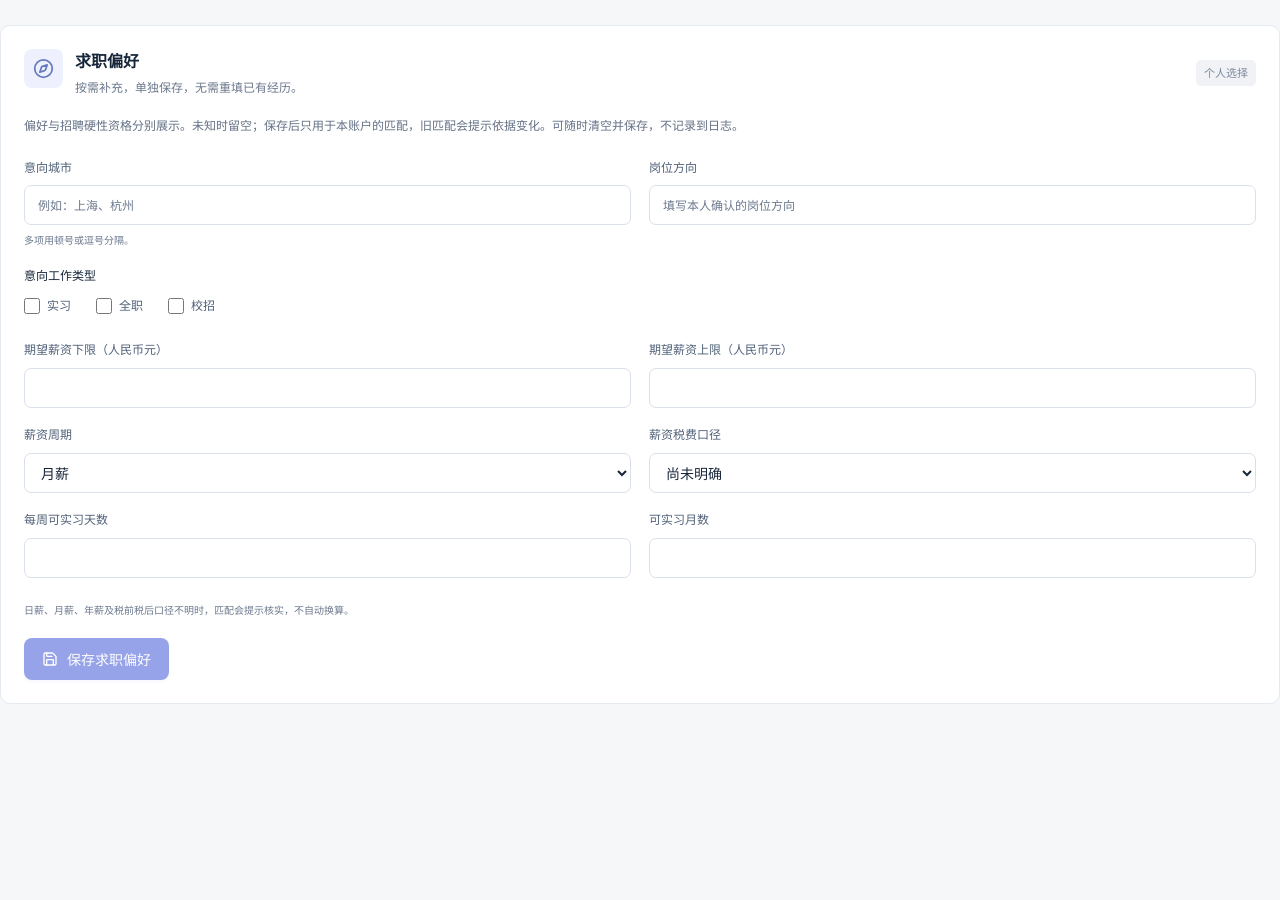
Test: keeps unknown preferences empty and rejects reverse salary ranges without a write
Expected: the button "保存求职偏好" is disabled, left=24, top=638, right=169, bottom=680
Type "300" into the number field labelled "期望薪资下限（人民币元）". click: coordinates (328, 388)
box: left=24, top=368, right=631, bottom=408
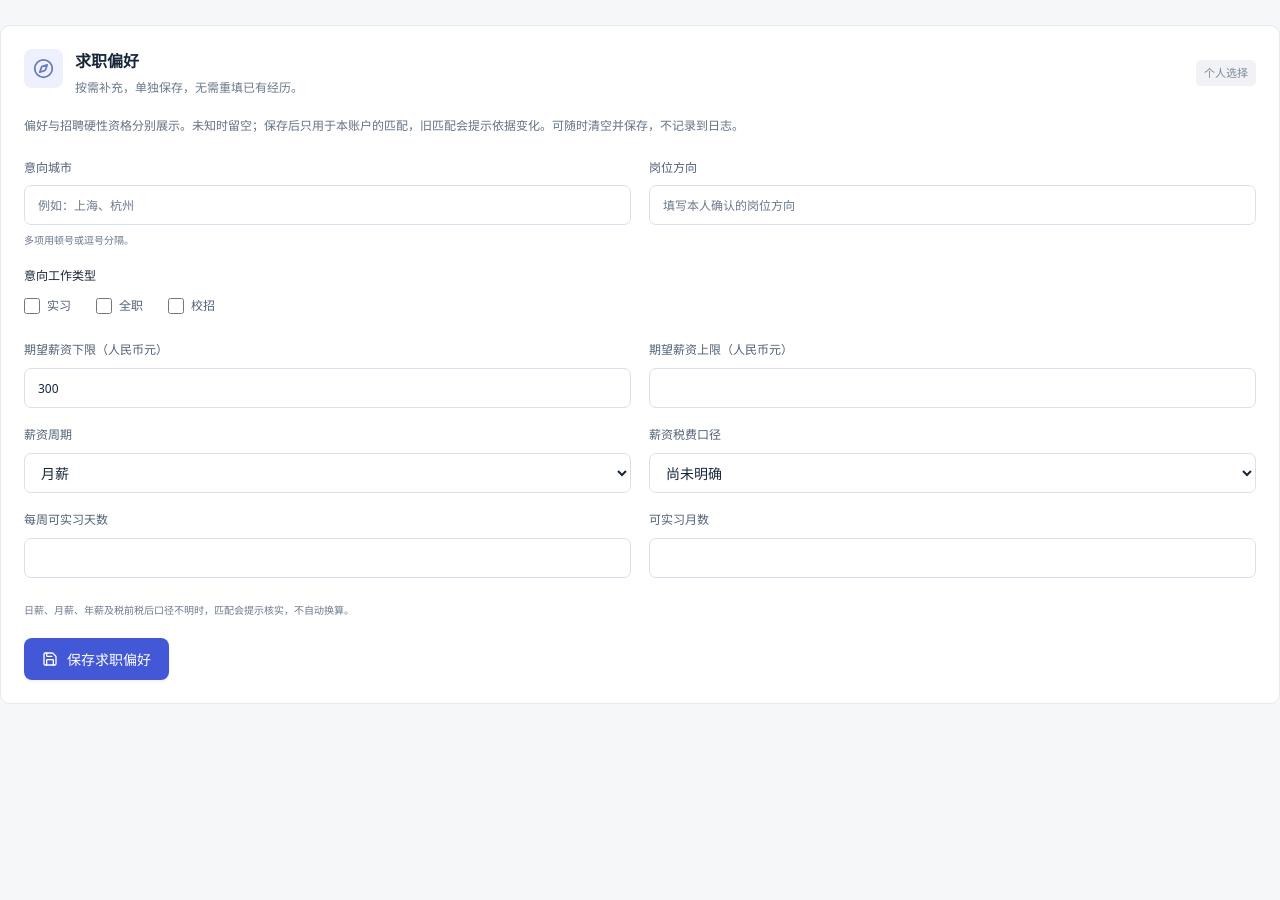
Type "200" into the number field labelled "期望薪资上限（人民币元）". click: coordinates (952, 388)
box: left=649, top=368, right=1256, bottom=408
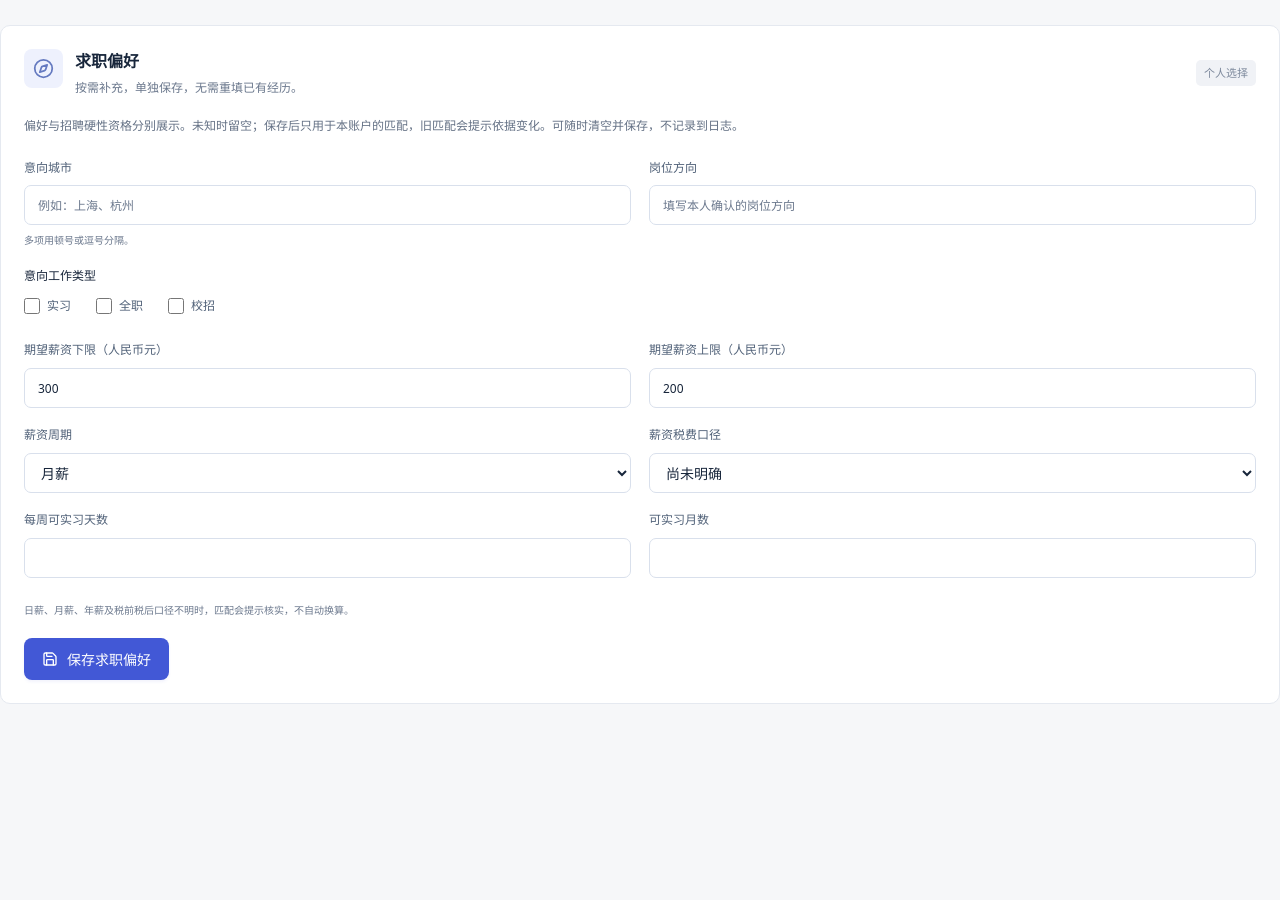
Click the button "保存求职偏好". click: coordinates (96, 659)
box: left=24, top=638, right=169, bottom=680
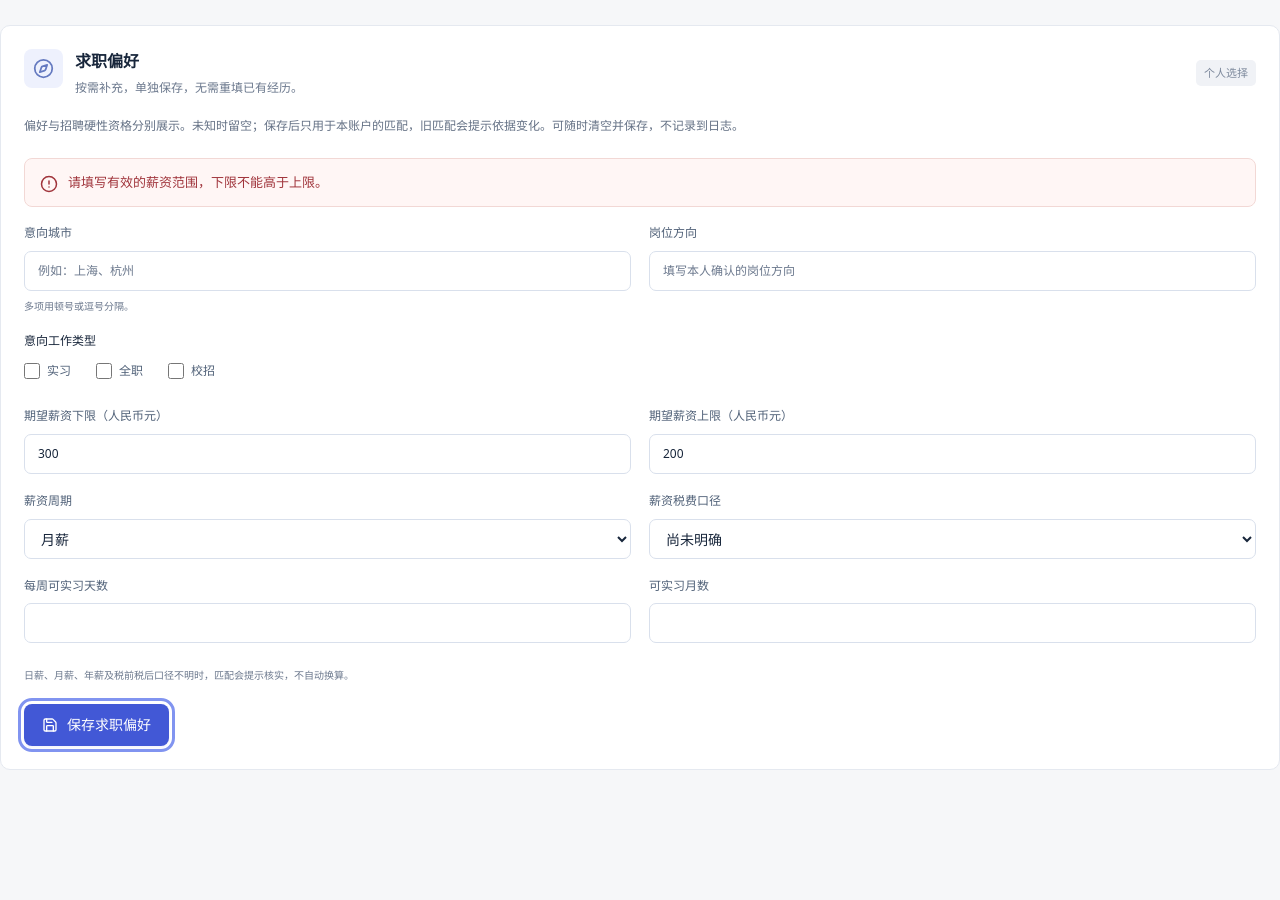
Expected: the message shows "下限不能高于上限", left=68, top=173, right=328, bottom=191
